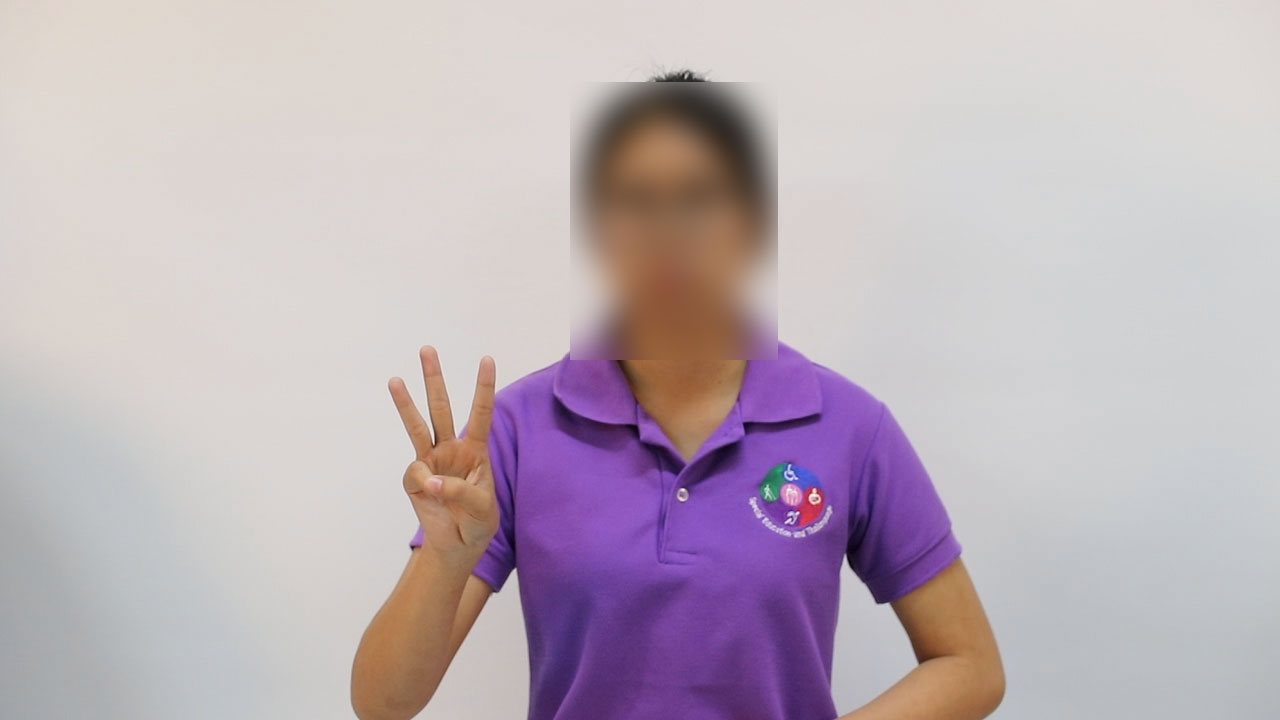wor: (372, 336, 507, 576)
